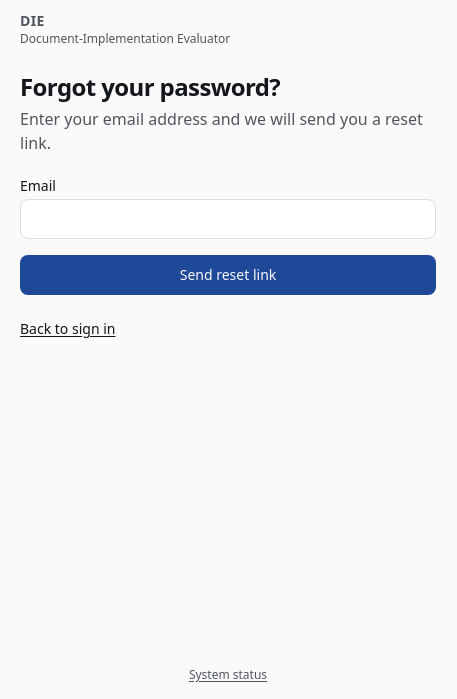
it: Forgot password › reports request throttling
This screenshot has width=457, height=699.
Step 1. Type "ana@example.edu" into the field labelled "Email" → (228, 219), box left=20, top=199, right=436, bottom=239
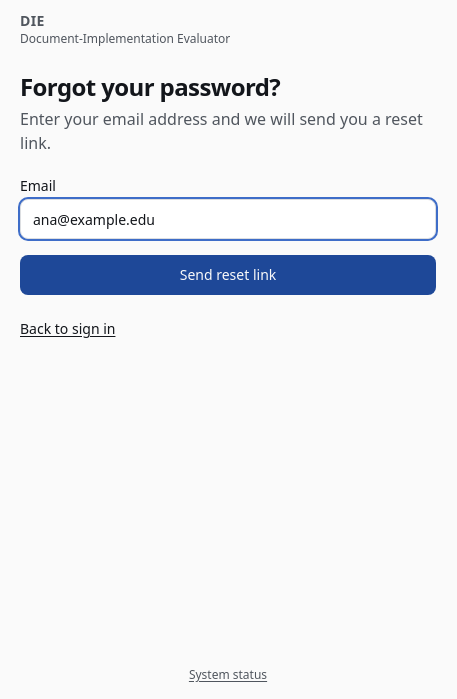
Step 2. Click the button "Send reset link" → (228, 275), box left=20, top=255, right=436, bottom=295
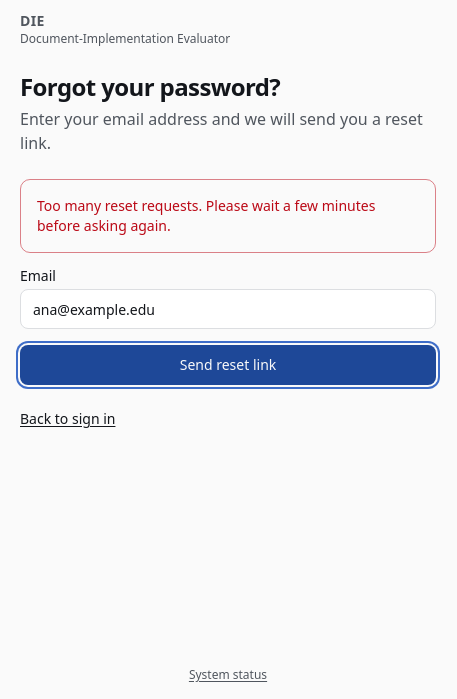
Result: the message shows "Too many reset requests" at left=37, top=196, right=375, bottom=235
